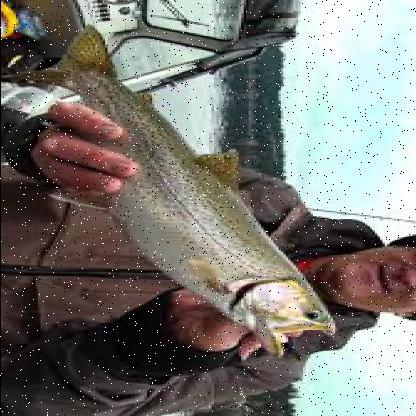fish: (28, 20, 340, 350)
